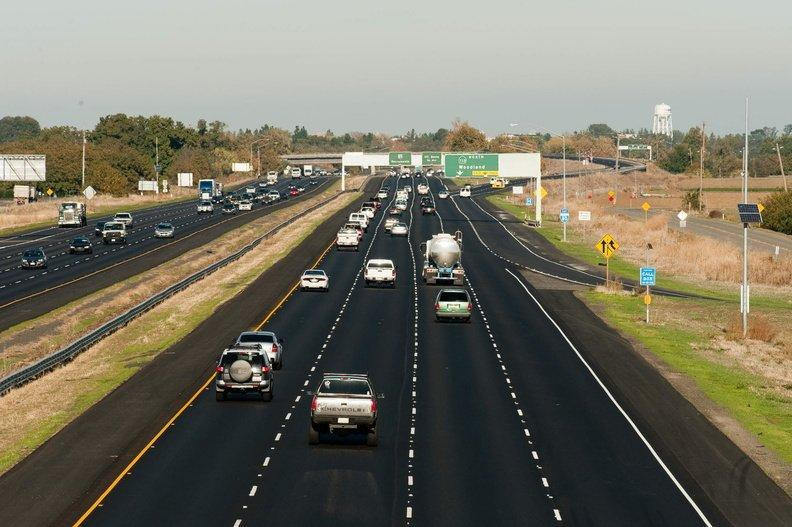car: (309, 369, 384, 432), (213, 344, 275, 396), (421, 229, 468, 284), (236, 329, 285, 367), (433, 286, 474, 322), (54, 199, 89, 228), (362, 256, 401, 282), (299, 267, 332, 290), (197, 176, 226, 200), (99, 219, 130, 241), (19, 249, 49, 270), (12, 183, 38, 204), (348, 210, 372, 231), (149, 220, 177, 238), (69, 235, 93, 255), (336, 228, 361, 247), (359, 199, 378, 217), (419, 200, 438, 217), (196, 199, 216, 214), (383, 216, 401, 232), (259, 193, 277, 208), (391, 223, 410, 237), (266, 169, 280, 187), (393, 198, 408, 213), (220, 202, 236, 216), (288, 184, 306, 196), (302, 164, 316, 179), (458, 186, 474, 199), (237, 199, 252, 212), (395, 186, 411, 198), (376, 189, 390, 202), (268, 188, 282, 201), (245, 184, 258, 196), (289, 166, 302, 178), (414, 169, 426, 182), (436, 190, 452, 199), (417, 183, 430, 194), (399, 170, 413, 179), (308, 177, 319, 188), (286, 179, 297, 188), (426, 166, 434, 178), (436, 169, 444, 177)
indicator: (1, 155, 47, 184), (446, 153, 498, 178), (558, 207, 573, 244), (176, 170, 198, 191), (599, 234, 618, 257), (637, 266, 657, 286), (137, 179, 161, 195), (229, 162, 251, 176), (390, 153, 412, 166), (422, 153, 442, 167)
streetPlate: (737, 204, 754, 336), (597, 238, 620, 293), (534, 175, 549, 229), (643, 283, 653, 325)
